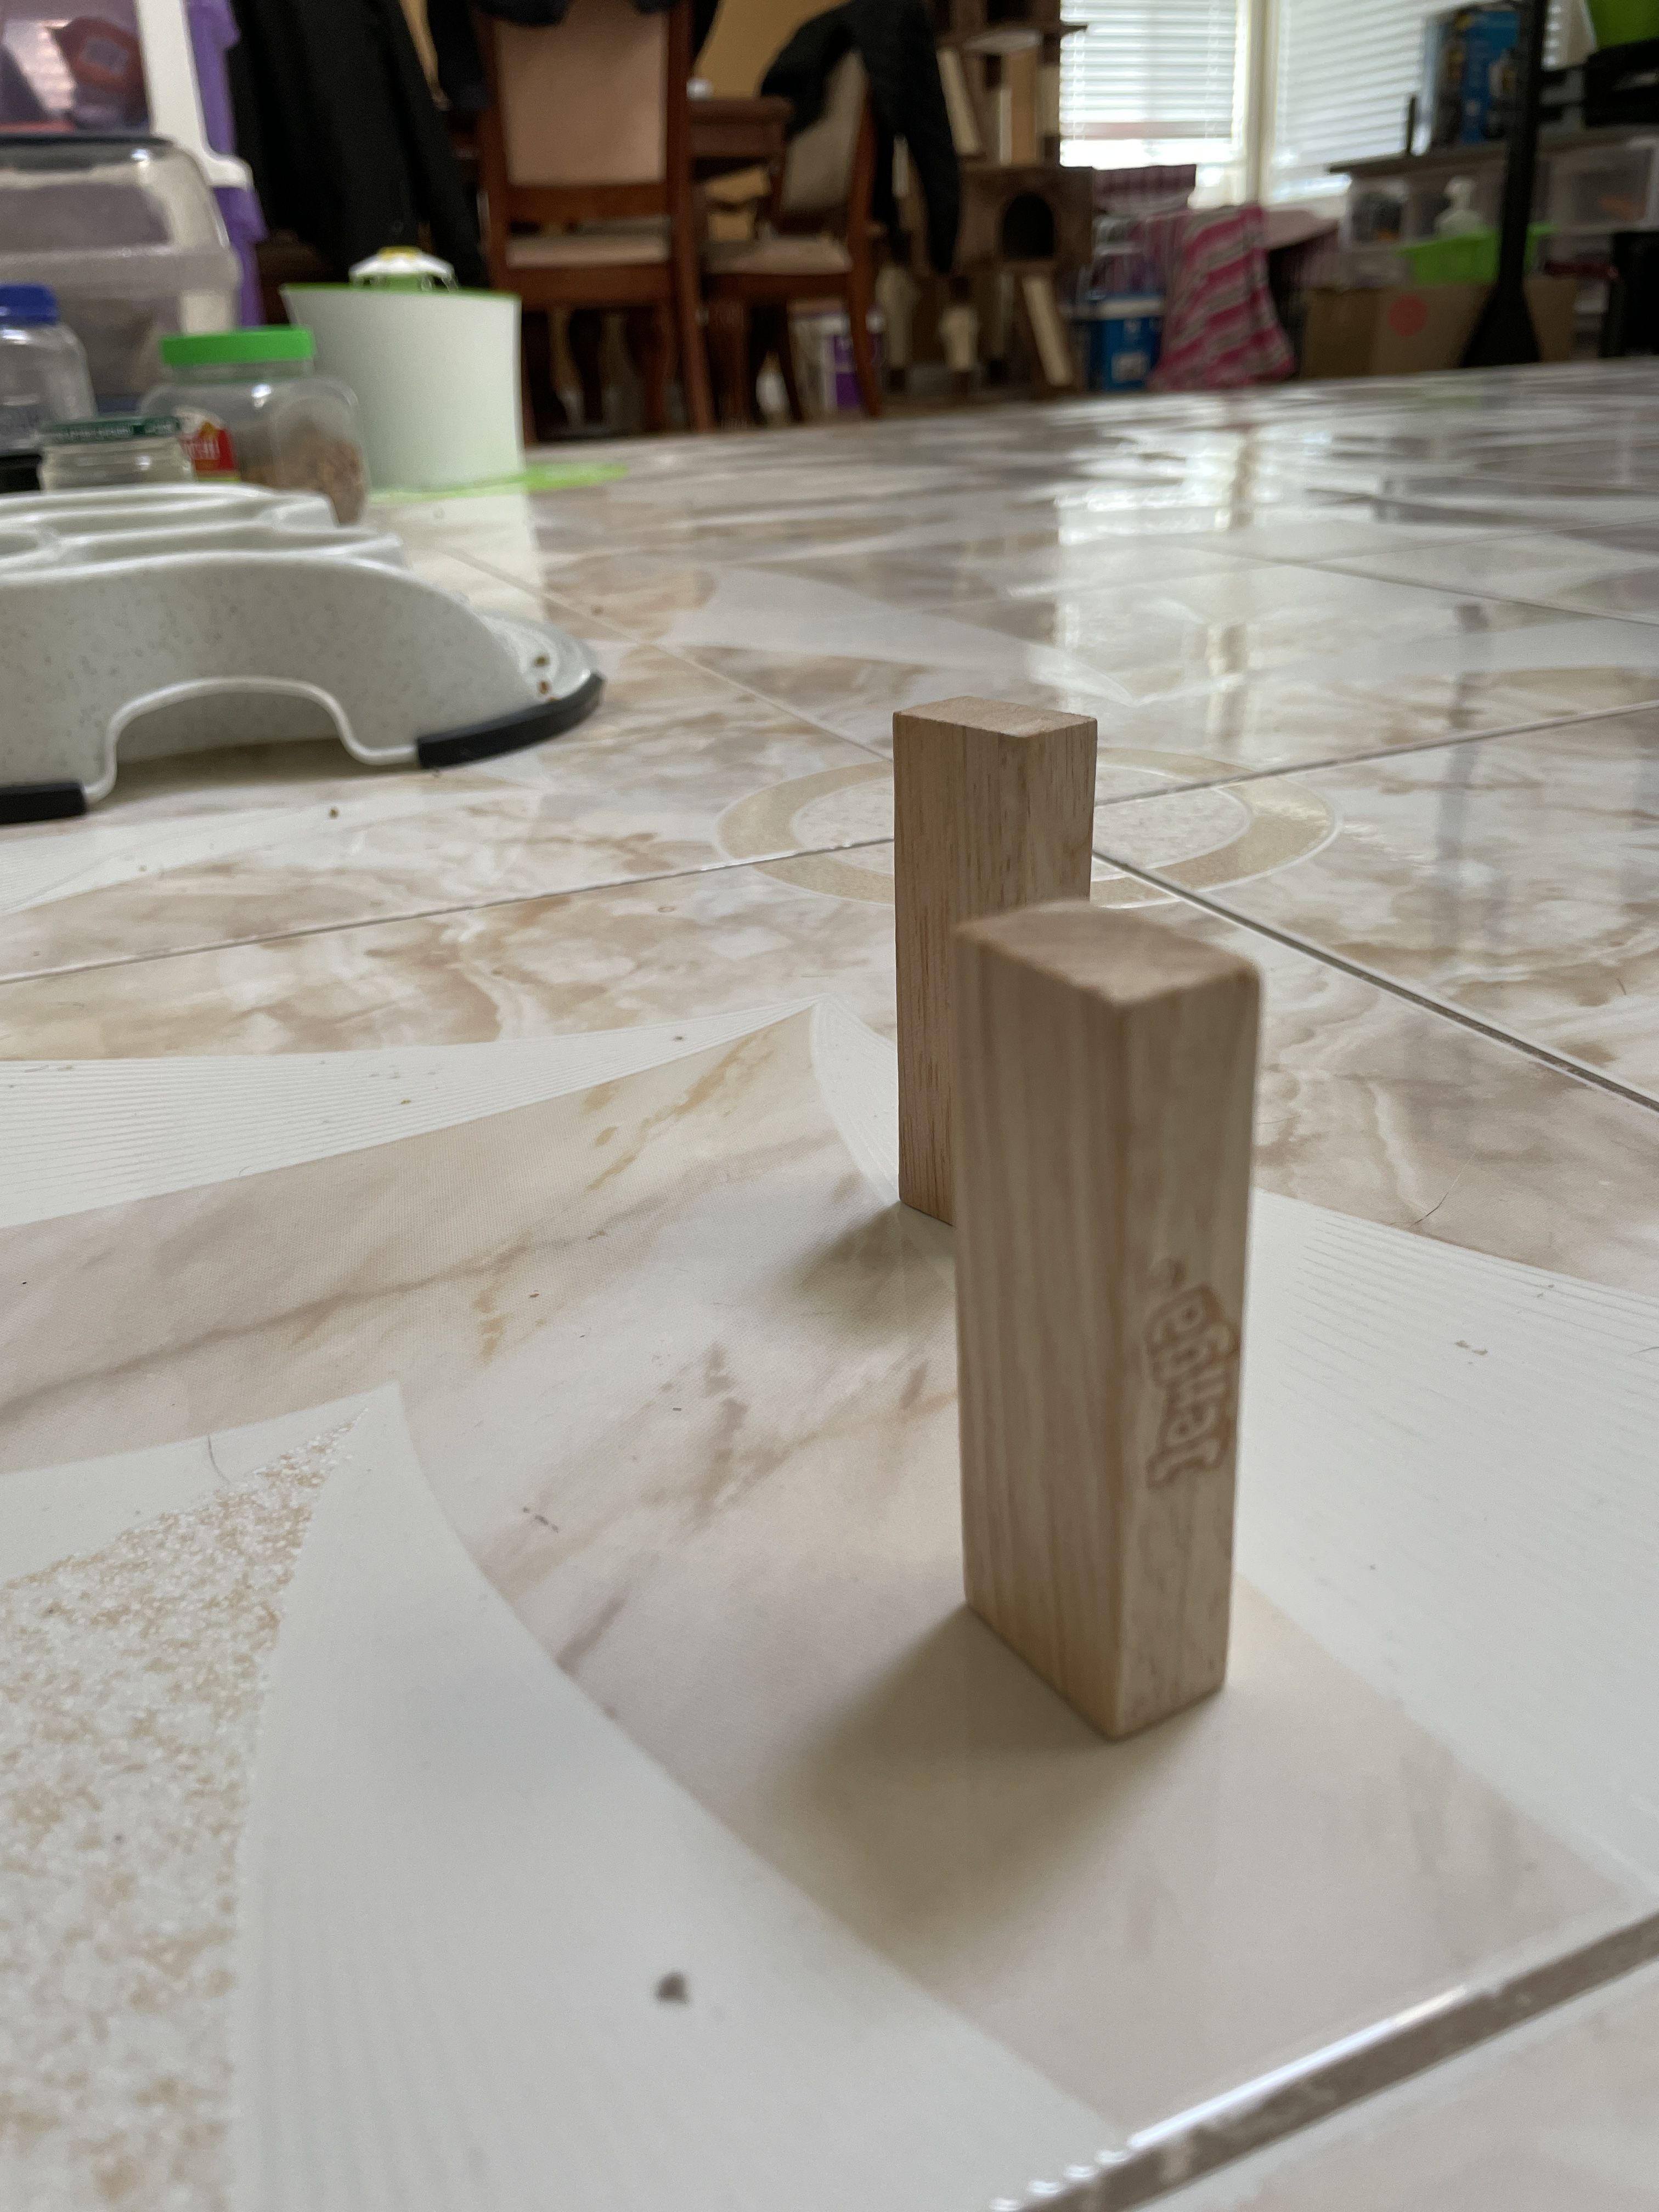jenga: (965, 914, 1237, 1723), (885, 691, 1053, 1231)
